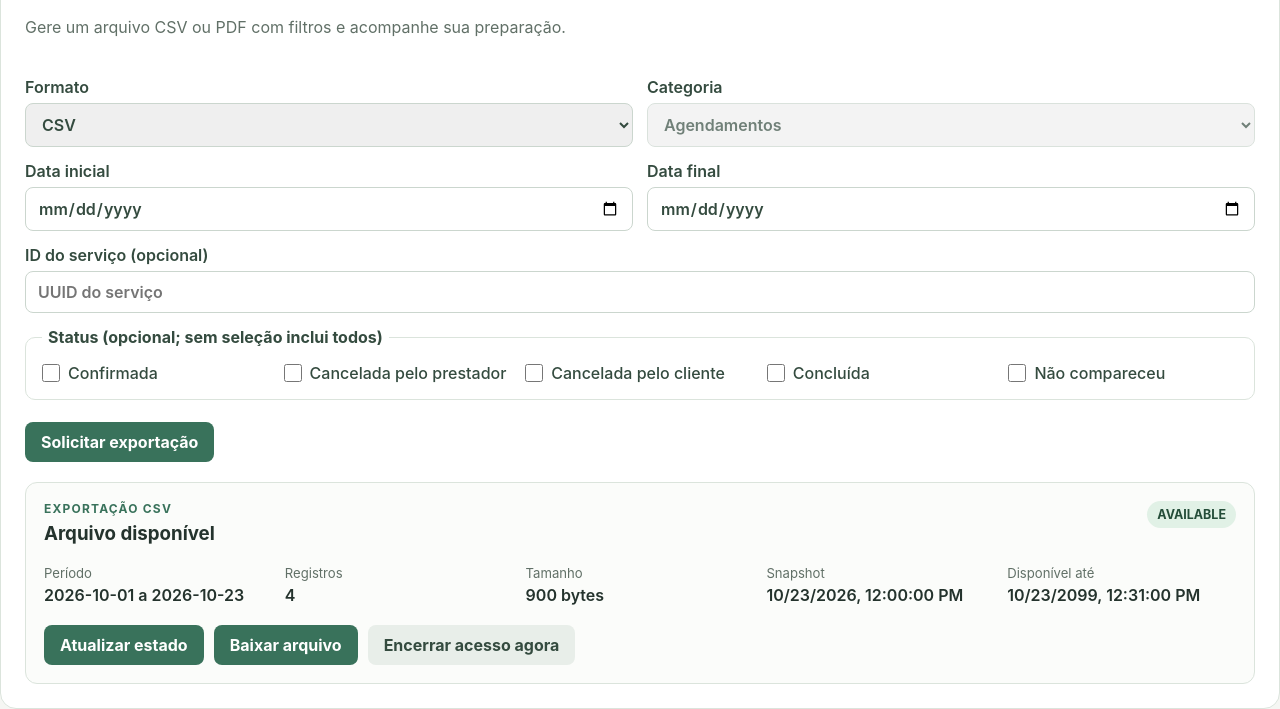
ExportCenter DOM interactions › streams an authorized download from memory and revokes its temporary URL
(page scrolled)
Click the button "Baixar arquivo": (286, 645) x1=214 y1=625 x2=358 y2=665
Wait 60000 ms
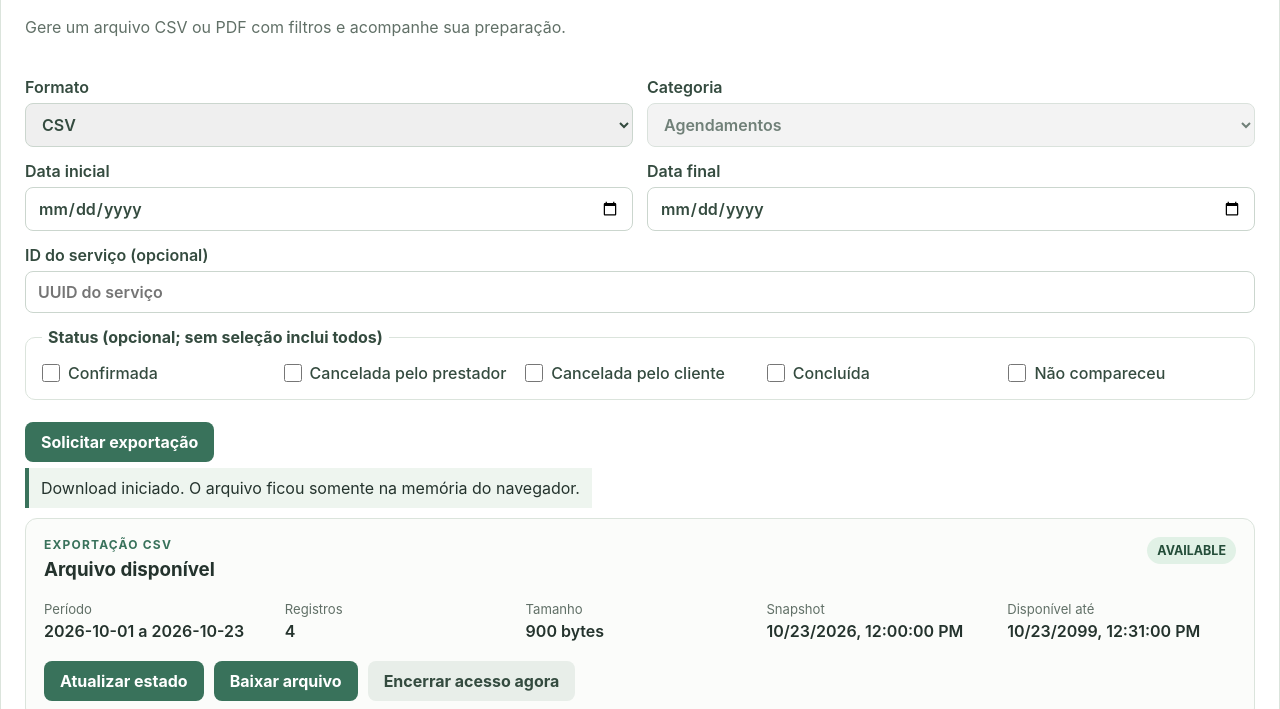
Result: the text "Download iniciado" is shown at x1=41 y1=478 x2=580 y2=498
